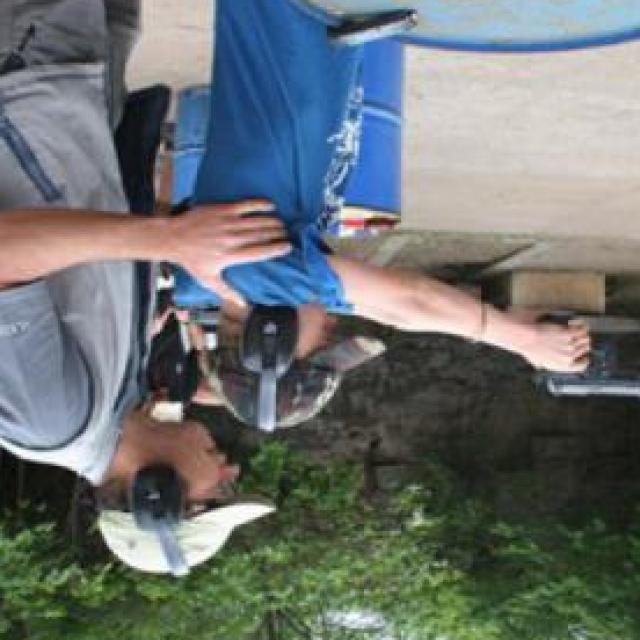pistol: (531, 313, 640, 399)
